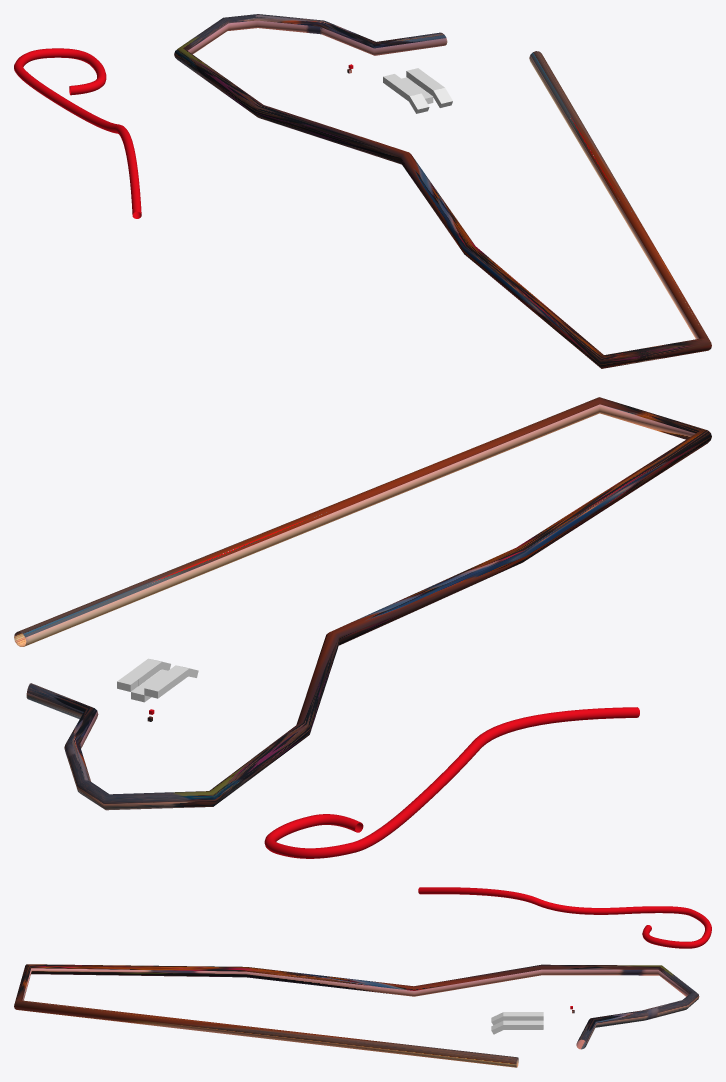
3 renders of one model, top to bottom at view 1: azimuth 30°, elevation 25°; view 2: azimuth 150°, elevation 25°; view 3: azimuth 270°, elevation 25°, orthographic. The views are drawn at different scales.
Visible parts, largest first — view 1: NurbsPath, NurbsPath.001; view 2: NurbsPath, NurbsPath.001; view 3: NurbsPath, NurbsPath.001.
Boxes of the visible parts, left/top/right/bottom form: NurbsPath: left=174, top=14, right=711, bottom=368; NurbsPath.001: left=14, top=48, right=141, bottom=218; NurbsPath: left=14, top=397, right=711, bottom=810; NurbsPath.001: left=264, top=707, right=639, bottom=858; NurbsPath: left=14, top=964, right=699, bottom=1067; NurbsPath.001: left=418, top=887, right=711, bottom=948.
Size of what is drawn, in the model's own units: 324 by 25.39 by 552.
4 materials, 1 textured.
